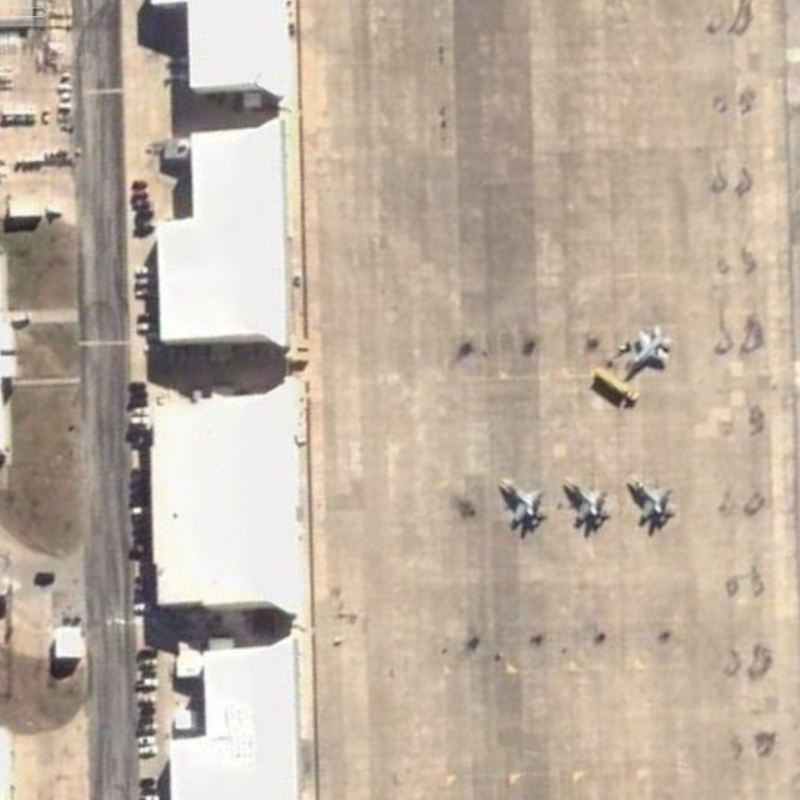A16: (623, 465, 683, 537), (492, 470, 554, 539), (561, 465, 616, 540), (621, 319, 676, 379)
